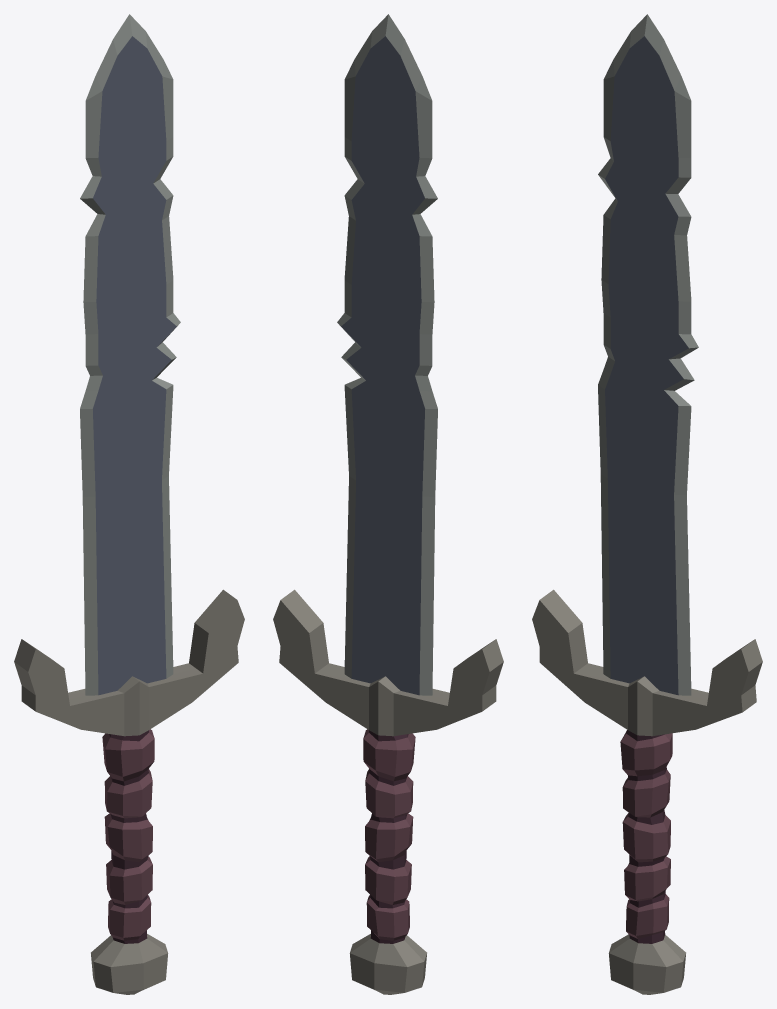
Rendered from quaternius-rpg-items-sword.glb.
3 views of the same model, side by side, from view 1: azimuth 30°, elevation 25°; view 2: azimuth 150°, elevation 25°; view 3: azimuth 330°, elevation 25° (orthographic).
Parts seen in each view (by area): view 1: Sword; view 2: Sword; view 3: Sword.
Part boxes in pixels (bbox=[...]): Sword: bbox=[14, 14, 244, 994]; Sword: bbox=[273, 14, 503, 994]; Sword: bbox=[532, 14, 762, 994].
Size of the model in its own units: 0.5342 by 2.3 by 0.1222.
1 material, 1 textured.
